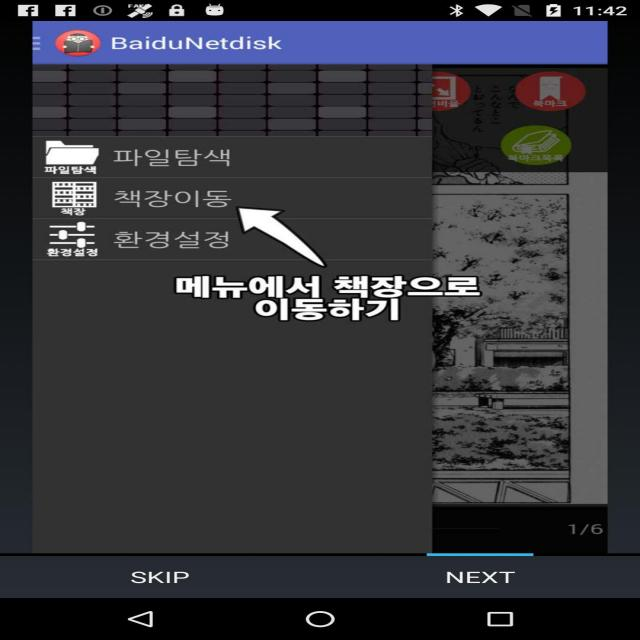button: (7, 559, 364, 599), (371, 561, 640, 598)
icon: (226, 206, 345, 269)
image: (40, 18, 617, 61), (40, 174, 111, 216), (36, 220, 108, 261), (40, 137, 108, 166)
text: (173, 272, 500, 322), (117, 142, 287, 172), (105, 222, 246, 255), (113, 185, 240, 218), (102, 33, 297, 52), (115, 562, 232, 591), (429, 565, 570, 586)
